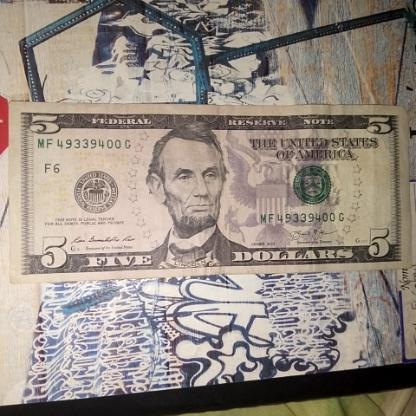five-front: (7, 99, 411, 276)
